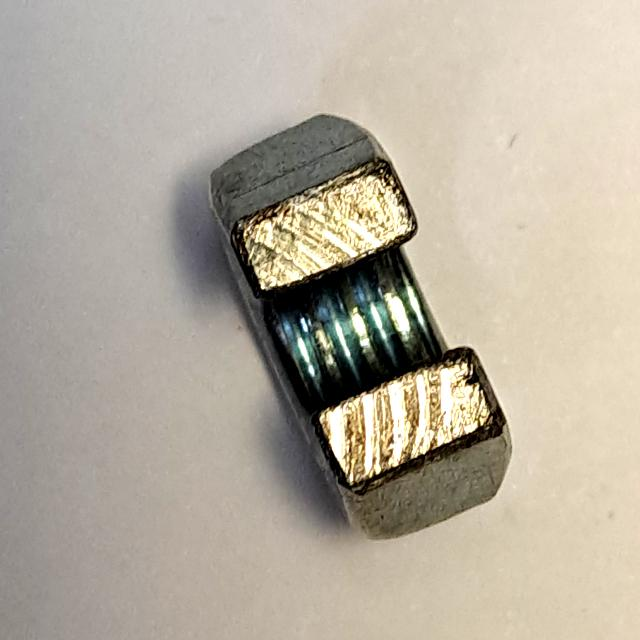Side-Fracture: (196, 89, 524, 548)
